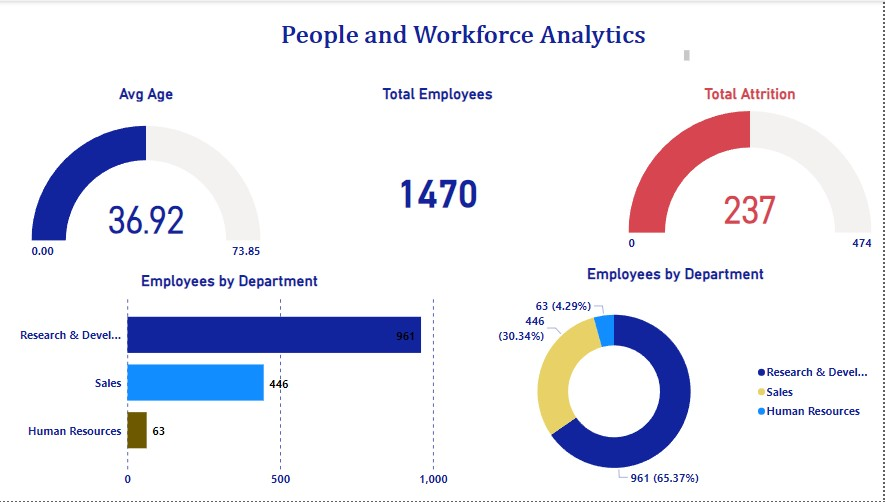

The page's visual inventory and layout, read from the dashboard file:
{"tool":"powerbi","page":{"name":"01","canvas":[1280,720],"ordinal":0},"visuals":[{"type":"gauge","title":"Avg Age","fields":{"Y":["HR_DATA.avg age"]},"box":[49,121,339.8,289.4],"z":0},{"type":"donutChart","title":"Employees  by Department","fields":{"Category":["HR_DATA.Department"],"Y":["CountNonNull(HR_DATA.Department)"]},"box":[682.6,380.2,597.6,339.8],"z":1000},{"type":"card","title":"Total Employees","fields":{"Values":["HR_DATA.Total Employees"]},"box":[453.6,121,370.1,275],"z":2000},{"type":"barChart","title":"Employees by Department","fields":{"Category":["HR_DATA.Department"],"Y":["CountNonNull(HR_DATA.Department)"]},"box":[20.2,390.2,637.9,318.2],"z":3000},{"type":"gauge","title":" Total Attrition","fields":{"Y":["Sum(HR_DATA.Attrition)"]},"box":[908.6,121,360,252],"z":4000},{"type":"textbox","title":"People and Workforce Analytics","box":[407.5,28.8,599,61.9],"z":4001}]}

Visuals, with their boxes in screenshot pixels (x1, y1, x2, y2), scaled from the page's 1280x720 canvas onto the 885x502 screenshot:
"Avg Age" gauge: (34,84,269,286)
"Employees  by Department" donutChart: (472,265,884,501)
"Total Employees" card: (314,84,570,276)
"Employees by Department" barChart: (14,272,455,494)
" Total Attrition" gauge: (628,84,877,260)
"People and Workforce Analytics" textbox: (282,20,696,63)
